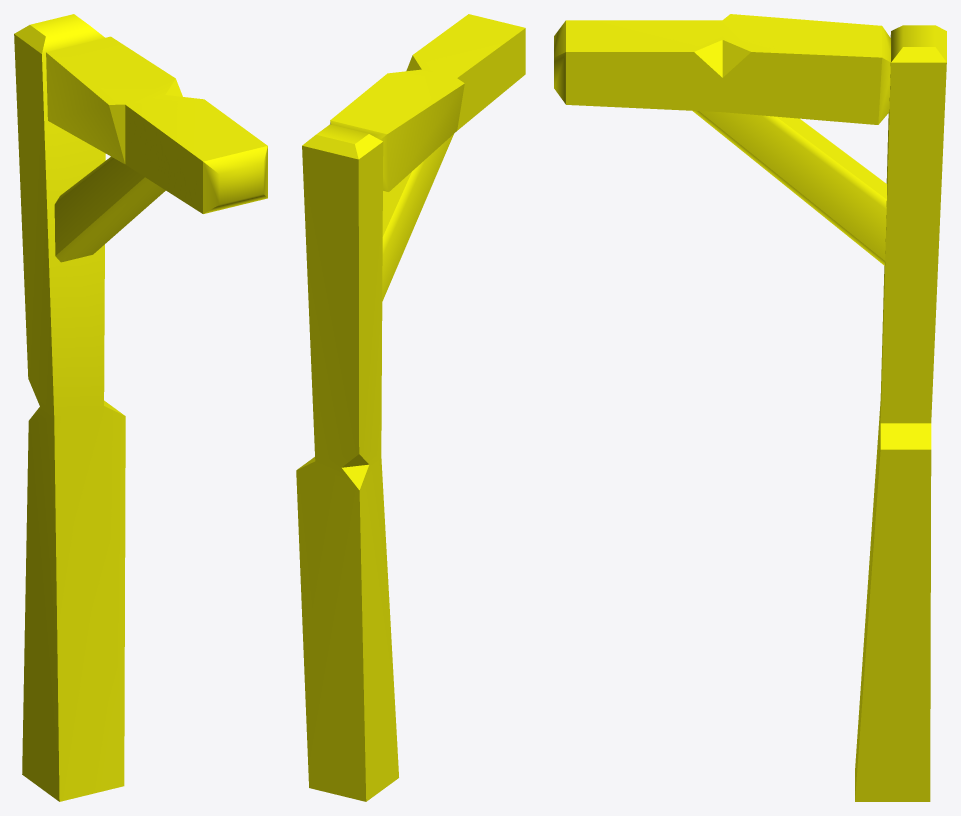
The model's file is kaykit-post.glb.
The picture shows the model from 3 angles, left to right: view 1: azimuth 30°, elevation 25°; view 2: azimuth 150°, elevation 25°; view 3: azimuth 270°, elevation 25°; orthographic projection. The views are drawn at different scales.
Parts seen in each view (by area): view 1: post; view 2: post; view 3: post.
Boxes of the visible parts, <box> form: post: <box>14,14,267,801</box>; post: <box>296,14,525,801</box>; post: <box>554,14,946,801</box>.
Size of the model in its own units: 0.4238 by 3.3 by 1.57.
